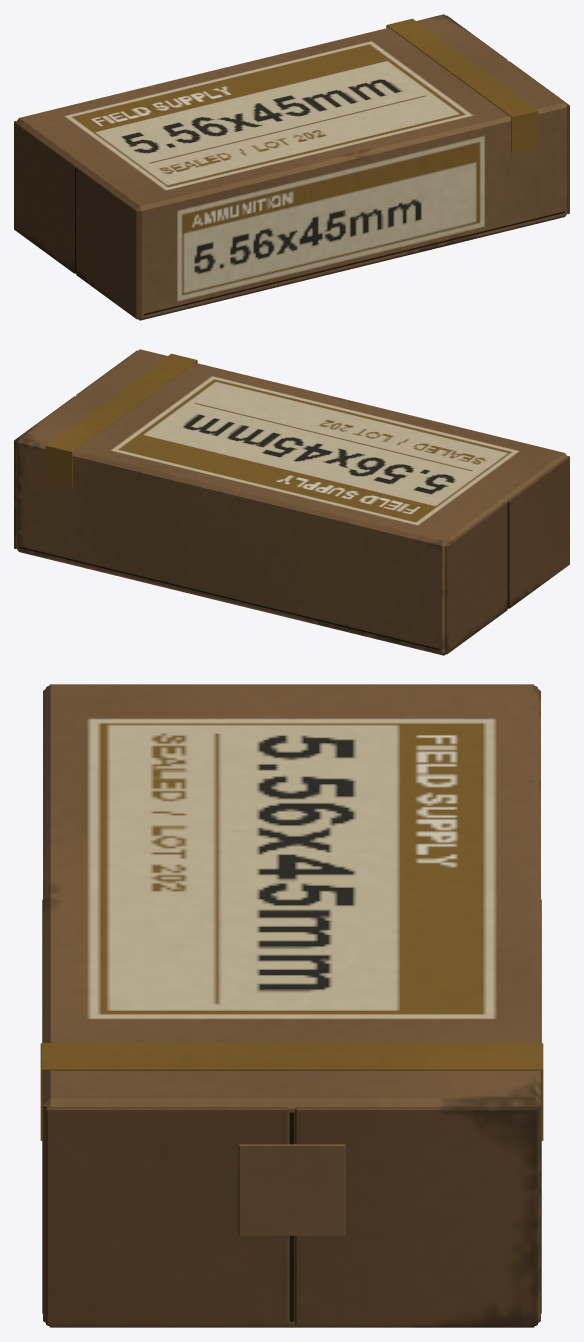
Rendered from ammo_556x45.glb.
The picture shows the model from 3 angles, top to bottom: view 1: azimuth 30°, elevation 25°; view 2: azimuth 150°, elevation 25°; view 3: azimuth 270°, elevation 25°; orthographic projection. The views are drawn at different scales.
Visible parts, largest first — view 1: ammo_556x45_Mesh; view 2: ammo_556x45_Mesh; view 3: ammo_556x45_Mesh.
Boxes of the visible parts, x1,y1,x2,y2 form: ammo_556x45_Mesh: (14,14,569,320); ammo_556x45_Mesh: (14,349,569,655); ammo_556x45_Mesh: (40,684,543,1327).
Size of what is drawn, in the model's own units: 0.131 by 0.0333 by 0.0656.
1 material, 1 textured.
